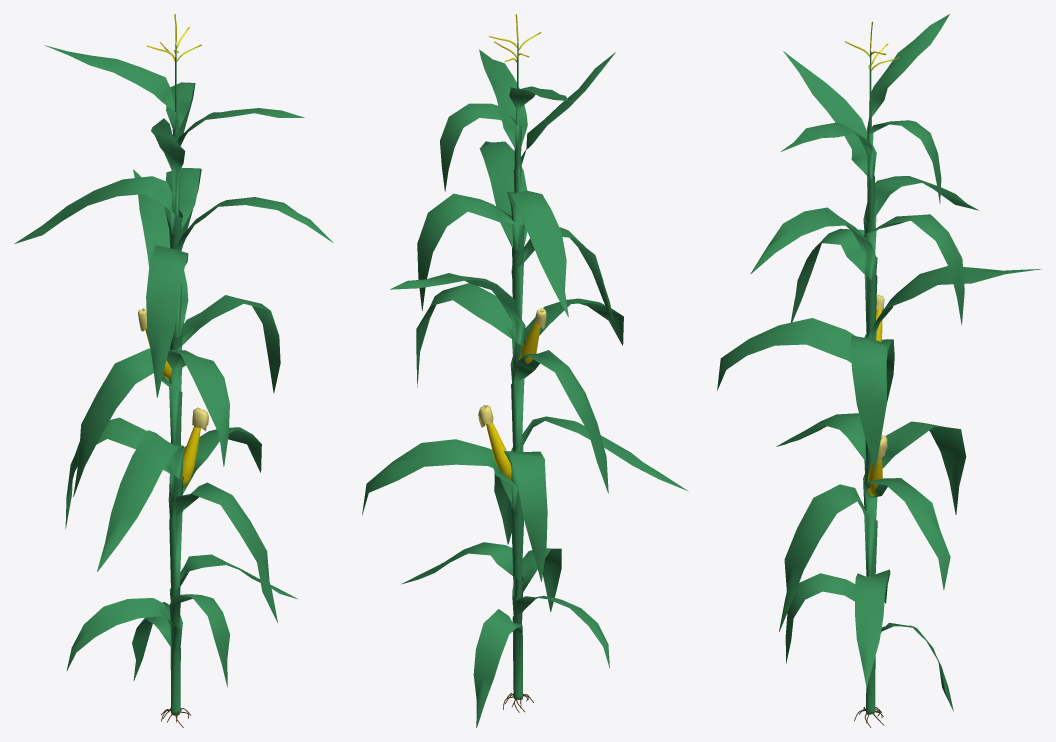
Rendered from cornLOD0.gltf.
3 renders of one model, left to right at view 1: azimuth 30°, elevation 25°; view 2: azimuth 150°, elevation 25°; view 3: azimuth 270°, elevation 25°, orthographic.
Parts seen in each view (by area): view 1: LeavesLOD0, CornLOD0; view 2: LeavesLOD0, CornLOD0; view 3: LeavesLOD0.
Part boxes in pixels (x1,y1,x2,y2): LeavesLOD0: (14, 45, 333, 715); CornLOD0: (145, 328, 200, 488); LeavesLOD0: (362, 49, 688, 727); CornLOD0: (486, 321, 540, 480); LeavesLOD0: (717, 14, 1041, 714).
Size of the model in its own units: 114 by 310 by 130.
